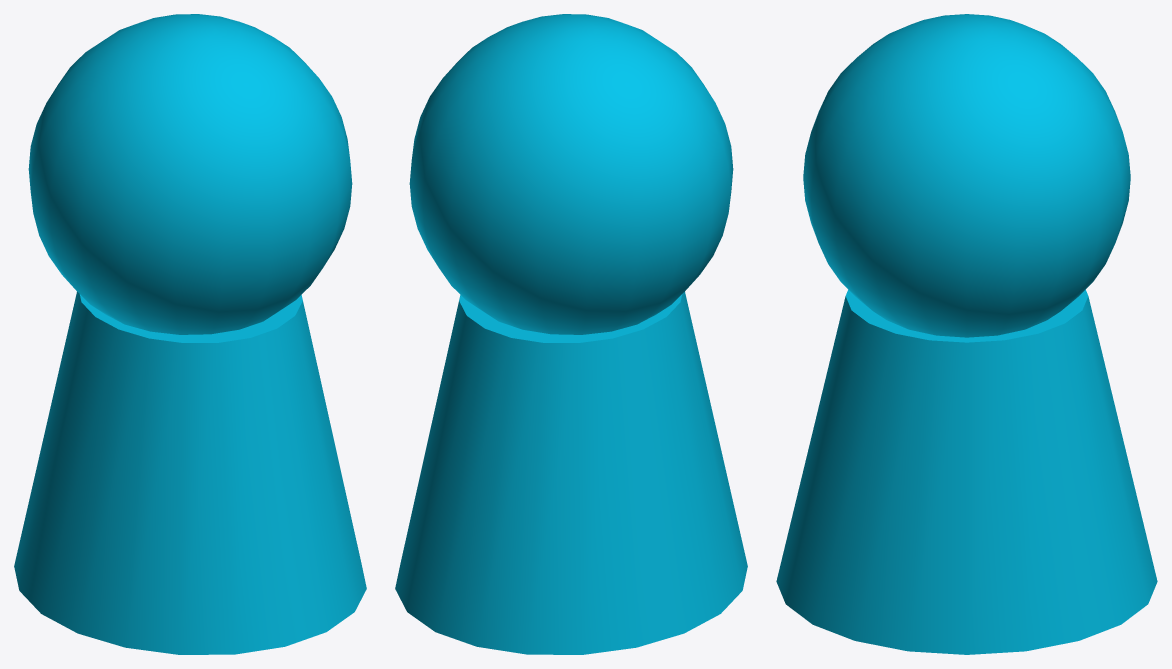
Rendered from player_1.fbx.
The picture shows the model from 3 angles, left to right: view 1: azimuth 30°, elevation 25°; view 2: azimuth 150°, elevation 25°; view 3: azimuth 270°, elevation 25°; orthographic projection.
Visible parts, largest first — view 1: pCylinder5; view 2: pCylinder5; view 3: pCylinder5.
Boxes of the visible parts, <box> form: pCylinder5: <box>14,14,366,654</box>; pCylinder5: <box>395,14,747,654</box>; pCylinder5: <box>776,14,1157,654</box>.
Bounding box in the file's own units: 72.69 × 128 × 79.83.
